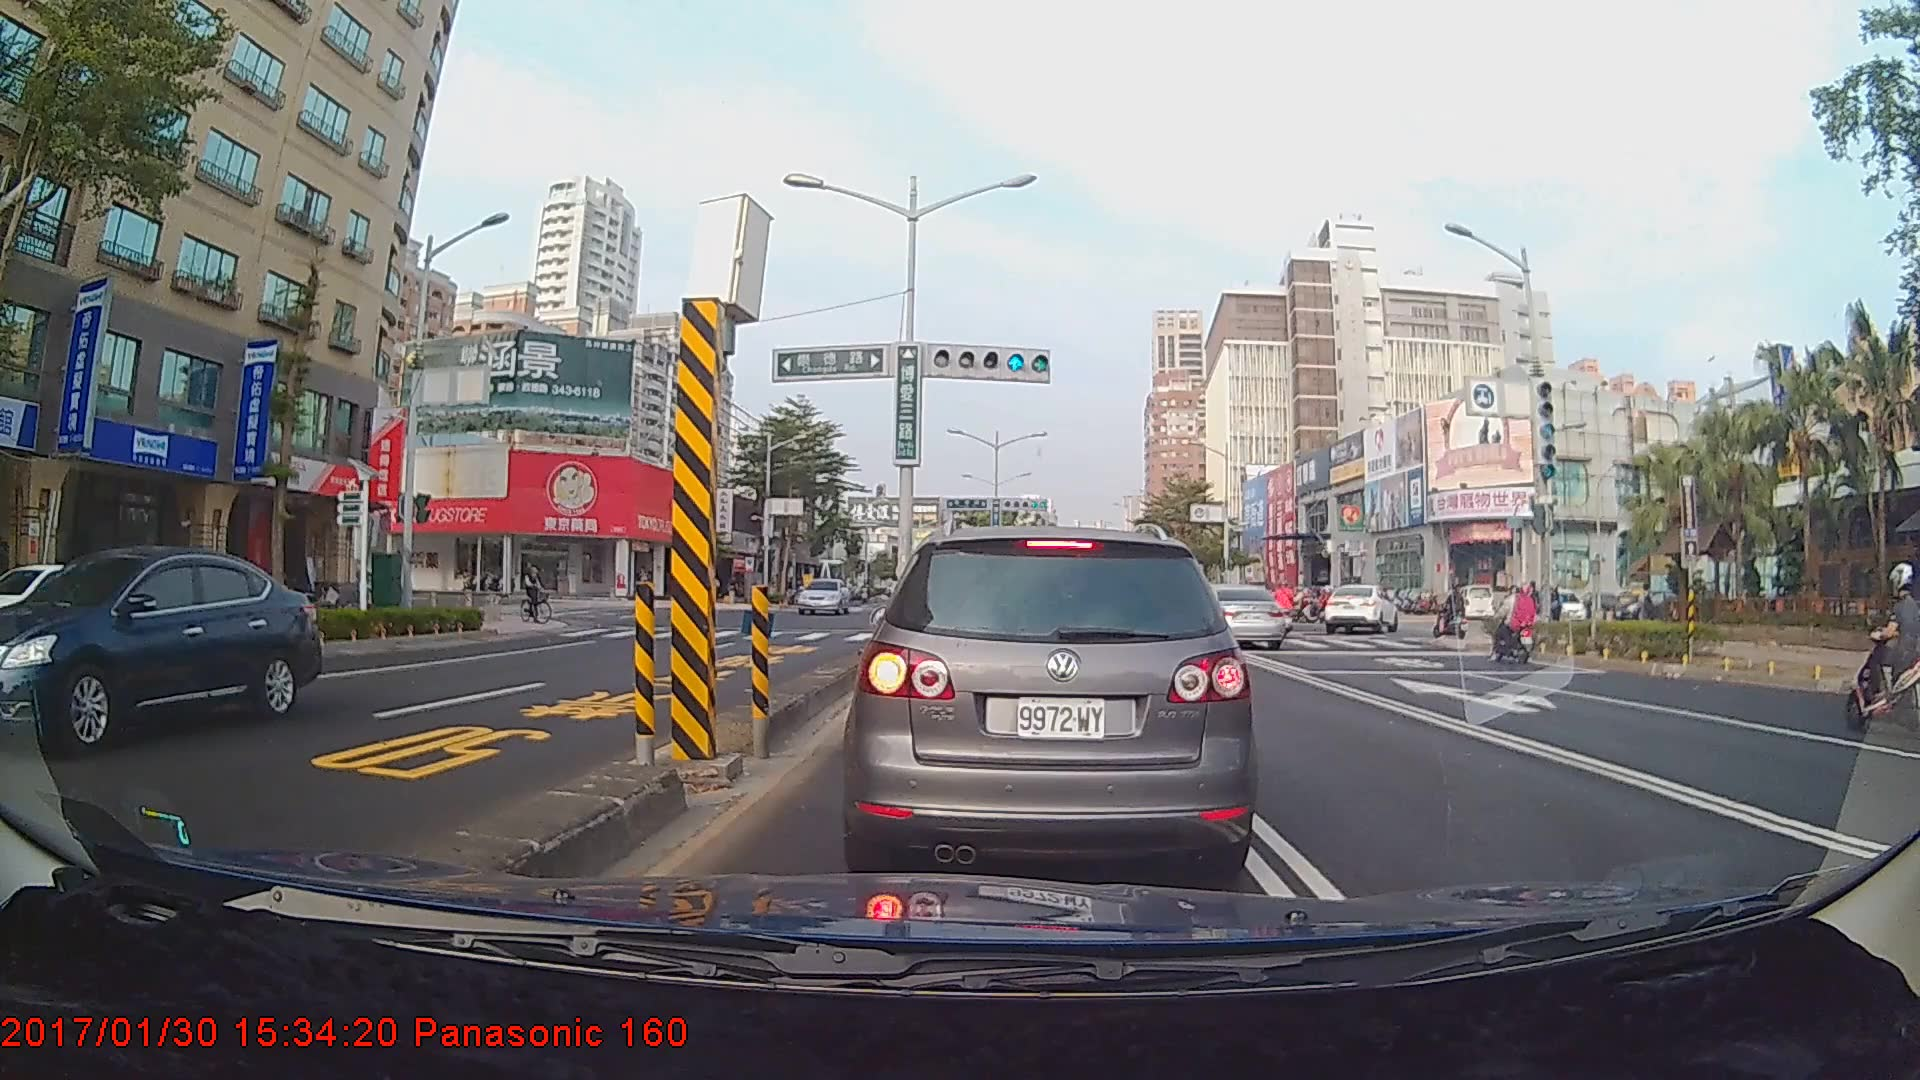pedestrian: (1631, 582, 1661, 640)
rider: (1848, 566, 1920, 730), (1485, 582, 1548, 668), (518, 559, 561, 629), (1433, 582, 1469, 646)
vehicle: (853, 522, 1250, 881), (0, 546, 318, 754), (1186, 581, 1286, 649), (1320, 581, 1398, 634), (795, 577, 849, 617)
